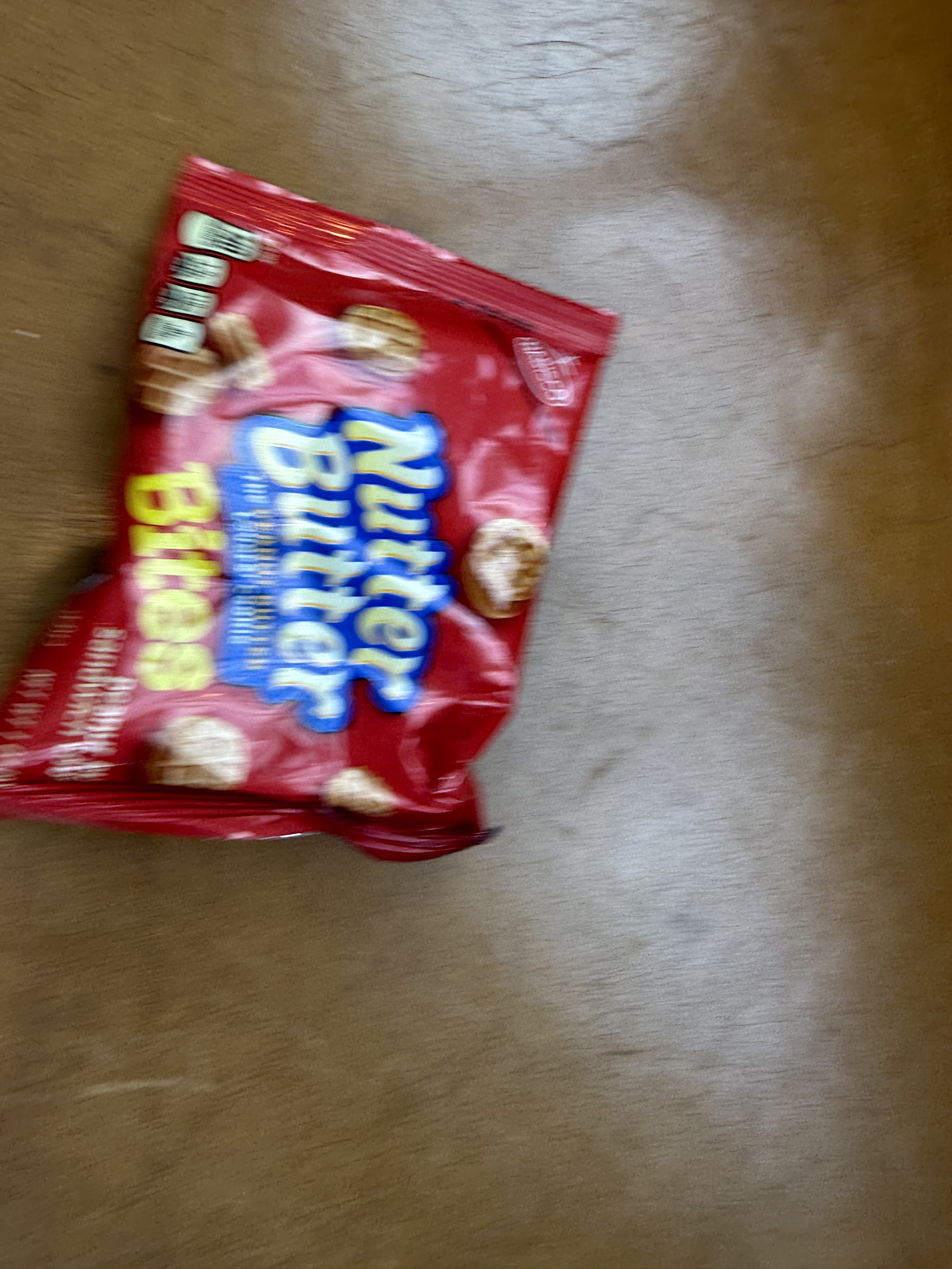nutter_butter: (149, 203, 530, 871)
